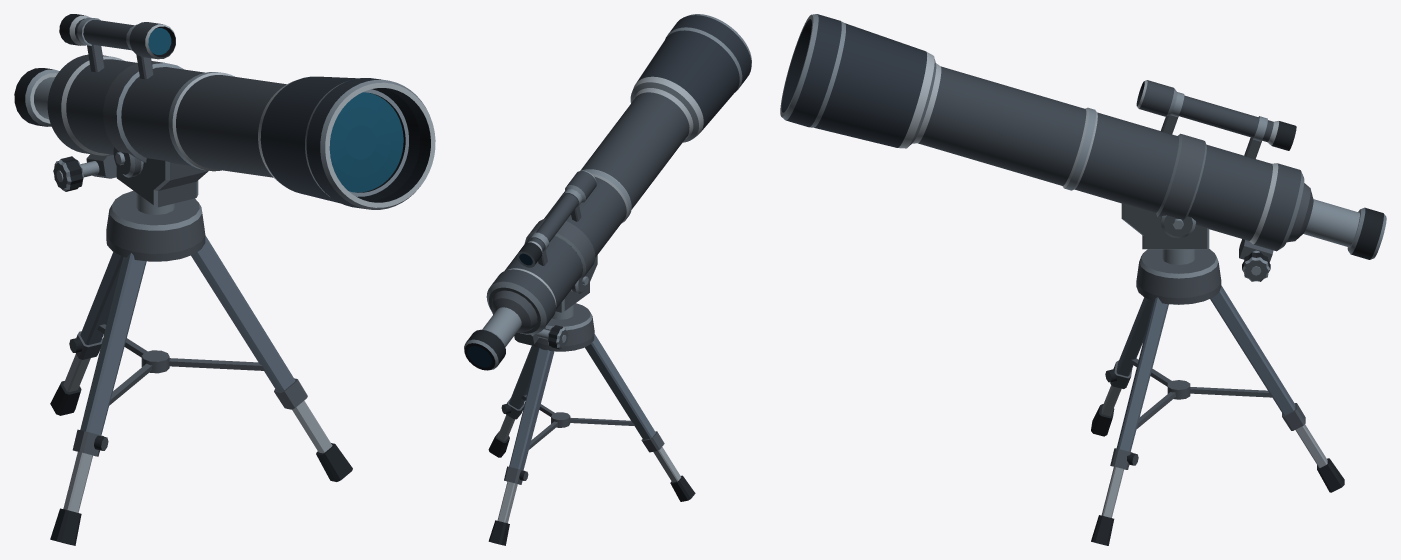
File: Telescope_Rebuild_Under5000.glb
3 views of the same model, side by side, from view 1: azimuth 30°, elevation 25°; view 2: azimuth 150°, elevation 25°; view 3: azimuth 270°, elevation 25° (orthographic). The views are drawn at different scales.
Parts seen in each view (by area): view 1: TR5K20261018_163820_01_Main_Tube_Hood_and_Objective, TR5K20261018_163820_09_Stepped_Tripod_Head, TR5K20261018_163820_16_Upper_Tripod_Leg_01, TR5K20261018_163820_16_Upper_Tripod_Leg_02, TR5K20261018_163820_03_Top_Finder_Scope, TR5K20261018_163820_07_Chamfered_Altitude_Yoke, TR5K20261018_163820_06_Mounting_Saddle_Band, TR5K20261018_163820_02_Rear_Drawtube_and_Eyepiece, TR5K20261018_163820_16_Upper_Tripod_Leg_03, TR5K20261018_163820_17_Lower_Extending_Leg_01, TR5K20261018_163820_17_Lower_Extending_Leg_02, TR5K20261018_163820_22_Folding_Spreader_02 (+9 smaller); view 2: TR5K20261018_163820_01_Main_Tube_Hood_and_Objective, TR5K20261018_163820_02_Rear_Drawtube_and_Eyepiece, TR5K20261018_163820_03_Top_Finder_Scope, TR5K20261018_163820_16_Upper_Tripod_Leg_03, TR5K20261018_163820_16_Upper_Tripod_Leg_01, TR5K20261018_163820_09_Stepped_Tripod_Head, TR5K20261018_163820_06_Mounting_Saddle_Band, TR5K20261018_163820_16_Upper_Tripod_Leg_02, TR5K20261018_163820_17_Lower_Extending_Leg_03, TR5K20261018_163820_07_Chamfered_Altitude_Yoke, TR5K20261018_163820_17_Lower_Extending_Leg_01, TR5K20261018_163820_19_Rubber_Foot_03 (+3 smaller); view 3: TR5K20261018_163820_01_Main_Tube_Hood_and_Objective, TR5K20261018_163820_02_Rear_Drawtube_and_Eyepiece, TR5K20261018_163820_09_Stepped_Tripod_Head, TR5K20261018_163820_03_Top_Finder_Scope, TR5K20261018_163820_06_Mounting_Saddle_Band, TR5K20261018_163820_16_Upper_Tripod_Leg_02, TR5K20261018_163820_16_Upper_Tripod_Leg_03, TR5K20261018_163820_07_Chamfered_Altitude_Yoke, TR5K20261018_163820_16_Upper_Tripod_Leg_01.
Part boxes in pixels (box(x1,y1,x2,y2)): TR5K20261018_163820_01_Main_Tube_Hood_and_Objective: box(47, 54, 435, 209); TR5K20261018_163820_09_Stepped_Tripod_Head: box(106, 190, 205, 261); TR5K20261018_163820_16_Upper_Tripod_Leg_01: box(80, 253, 146, 435); TR5K20261018_163820_16_Upper_Tripod_Leg_02: box(191, 235, 295, 391); TR5K20261018_163820_03_Top_Finder_Scope: box(59, 14, 175, 59); TR5K20261018_163820_07_Chamfered_Altitude_Yoke: box(116, 158, 208, 207); TR5K20261018_163820_06_Mounting_Saddle_Band: box(103, 61, 184, 162); TR5K20261018_163820_02_Rear_Drawtube_and_Eyepiece: box(14, 68, 59, 126); TR5K20261018_163820_16_Upper_Tripod_Leg_03: box(80, 252, 123, 344); TR5K20261018_163820_17_Lower_Extending_Leg_01: box(63, 451, 92, 512); TR5K20261018_163820_17_Lower_Extending_Leg_02: box(292, 400, 332, 453); TR5K20261018_163820_22_Folding_Spreader_02: box(169, 358, 264, 370); TR5K20261018_163820_01_Main_Tube_Hood_and_Objective: box(486, 14, 751, 334); TR5K20261018_163820_02_Rear_Drawtube_and_Eyepiece: box(464, 290, 537, 370); TR5K20261018_163820_03_Top_Finder_Scope: box(517, 170, 596, 267); TR5K20261018_163820_16_Upper_Tripod_Leg_03: box(509, 348, 554, 470); TR5K20261018_163820_16_Upper_Tripod_Leg_01: box(585, 333, 655, 439); TR5K20261018_163820_09_Stepped_Tripod_Head: box(533, 303, 594, 351); TR5K20261018_163820_06_Mounting_Saddle_Band: box(524, 218, 595, 278); TR5K20261018_163820_16_Upper_Tripod_Leg_02: box(509, 345, 538, 409); TR5K20261018_163820_17_Lower_Extending_Leg_03: box(497, 481, 517, 523); TR5K20261018_163820_07_Chamfered_Altitude_Yoke: box(555, 255, 597, 312); TR5K20261018_163820_17_Lower_Extending_Leg_01: box(653, 447, 681, 482); TR5K20261018_163820_19_Rubber_Foot_03: box(488, 520, 509, 545); TR5K20261018_163820_01_Main_Tube_Hood_and_Objective: box(780, 14, 1304, 251); TR5K20261018_163820_02_Rear_Drawtube_and_Eyepiece: box(1287, 183, 1386, 259); TR5K20261018_163820_09_Stepped_Tripod_Head: box(1136, 249, 1221, 304); TR5K20261018_163820_03_Top_Finder_Scope: box(1136, 80, 1296, 150); TR5K20261018_163820_06_Mounting_Saddle_Band: box(1156, 133, 1206, 219); TR5K20261018_163820_16_Upper_Tripod_Leg_02: box(1116, 297, 1168, 451); TR5K20261018_163820_16_Upper_Tripod_Leg_03: box(1210, 285, 1295, 415); TR5K20261018_163820_07_Chamfered_Altitude_Yoke: box(1121, 203, 1209, 249); TR5K20261018_163820_16_Upper_Tripod_Leg_01: box(1116, 297, 1153, 376).
Bounding box in the file's own units: 1.19 × 2.13 × 2.49.
